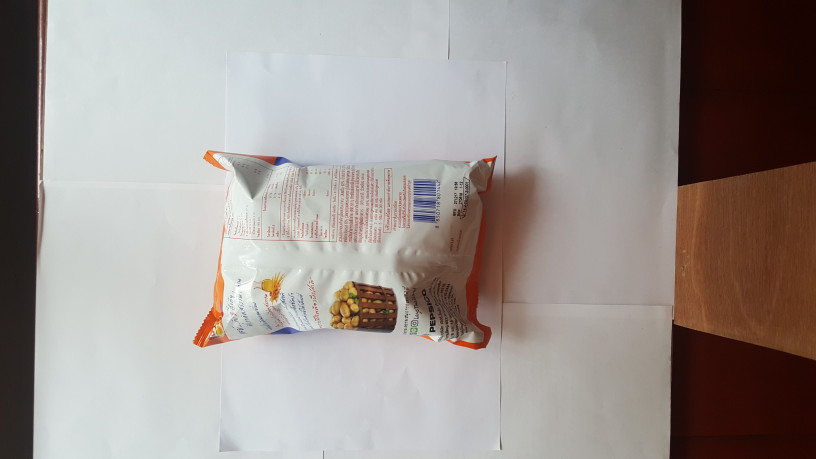lays-bbq: (186, 140, 508, 363)
